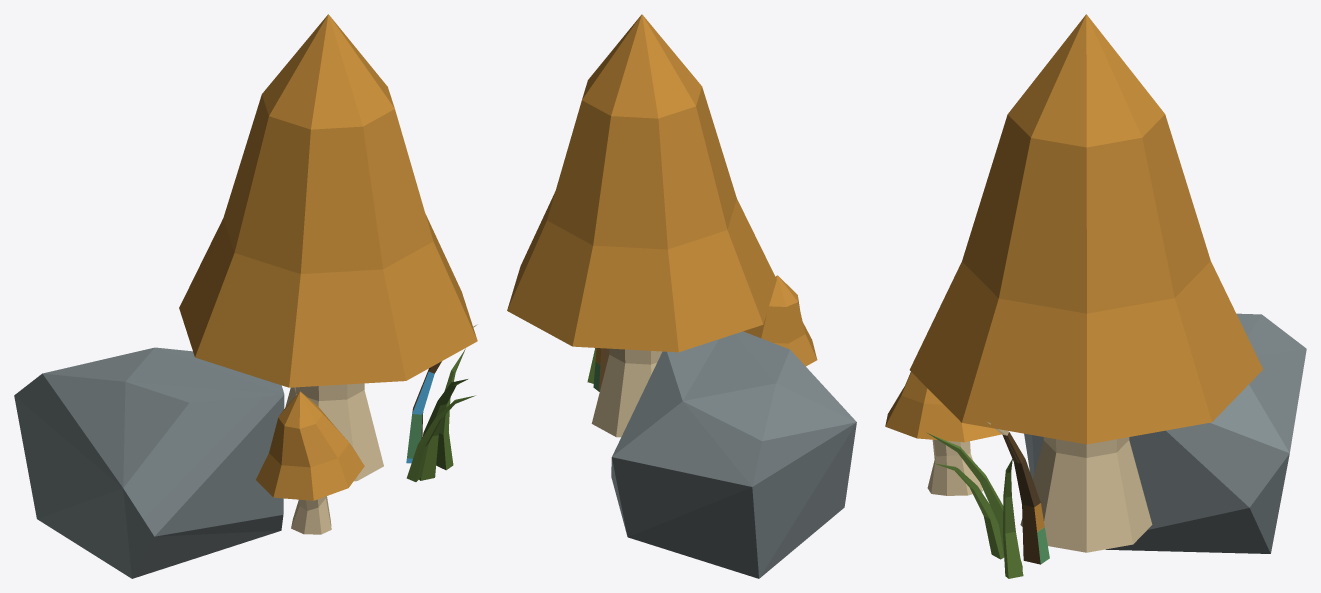
File: Mushroom_09.fbx
3 renders of one model, left to right at view 1: azimuth 30°, elevation 25°; view 2: azimuth 150°, elevation 25°; view 3: azimuth 270°, elevation 25°, orthographic. The views are drawn at different scales.
Visible parts, largest first — view 1: Mushroom_09; view 2: Mushroom_09; view 3: Mushroom_09.
Boxes of the visible parts, left/top/right/bottom form: Mushroom_09: left=14, top=14, right=477, bottom=578; Mushroom_09: left=507, top=14, right=856, bottom=578; Mushroom_09: left=885, top=14, right=1306, bottom=578.
Size of the model in its own units: 25.5 by 35.22 by 22.9.
